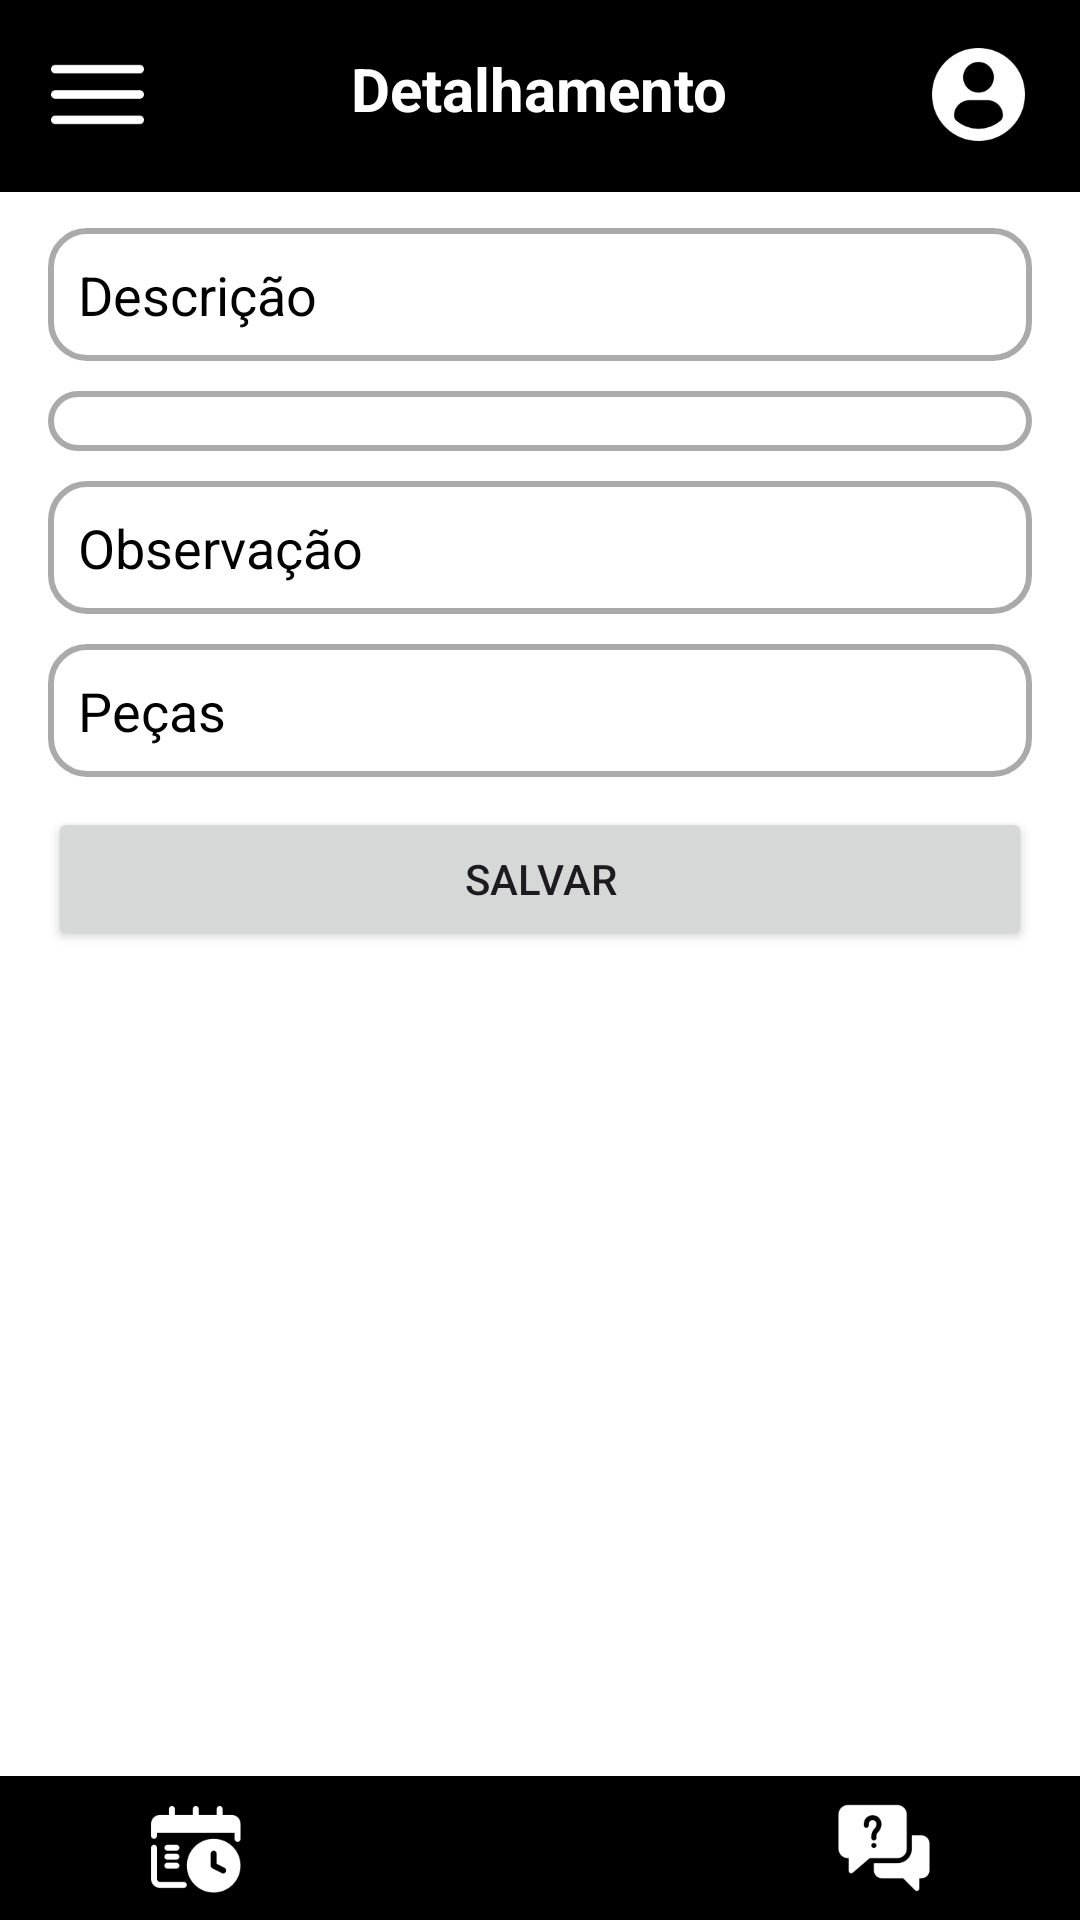

Icon click points for this 1080×1920 phone screenshot, format (x,y):
Help Bottom: (884,1847)
Menu Icon: (97,94)
User Icon: (978,94)
